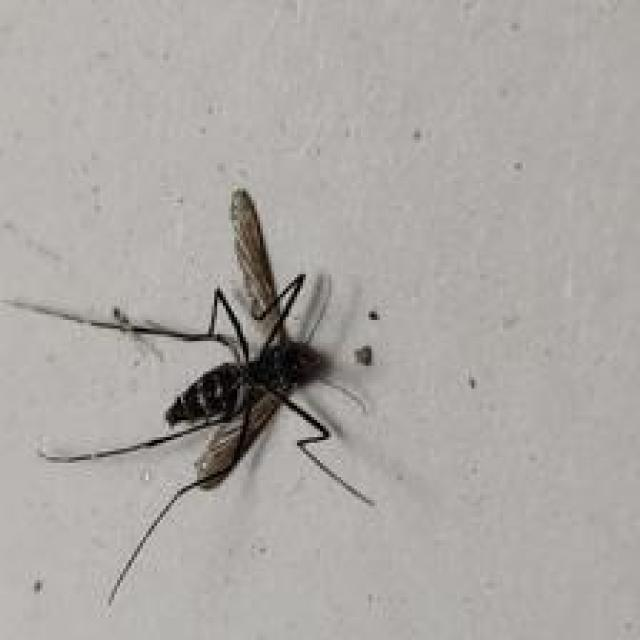Aedes albopictus: (0, 186, 380, 608)
